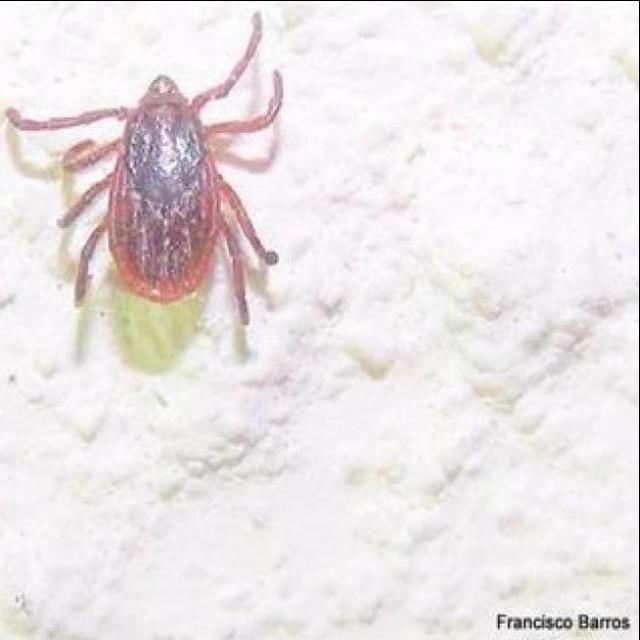Rhipicephalus Sanguineus-F: (7, 10, 284, 344)
